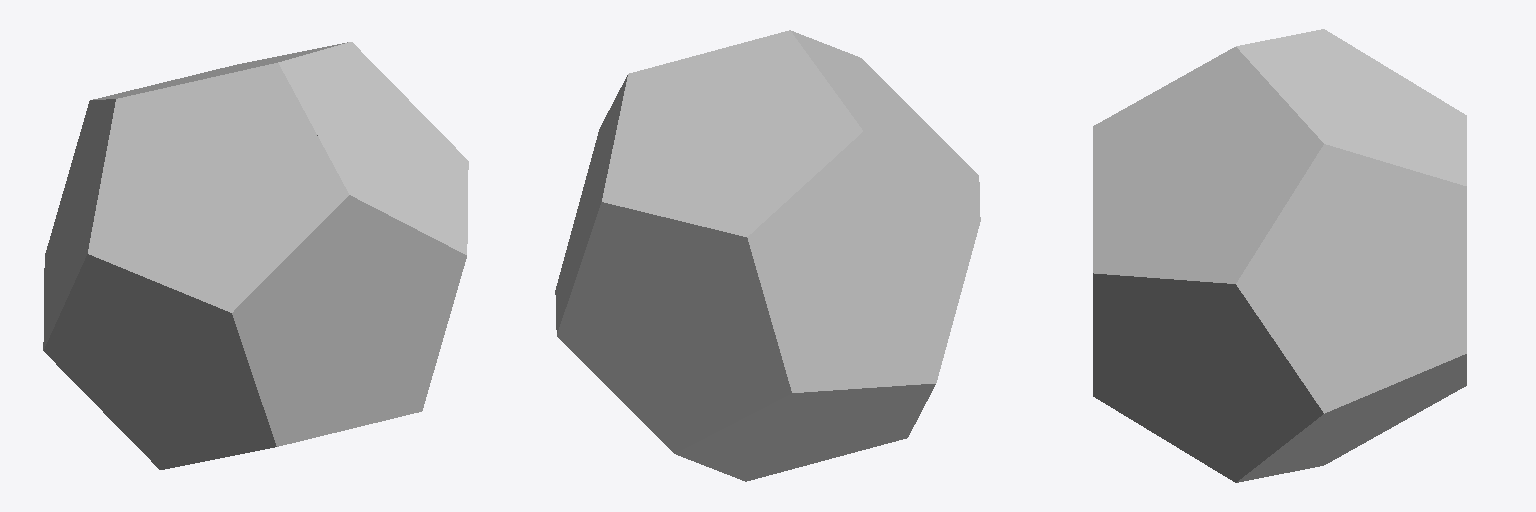
Rendered from Dodecahedron.obj.
3 views of the same model, side by side, from view 1: azimuth 30°, elevation 25°; view 2: azimuth 150°, elevation 25°; view 3: azimuth 270°, elevation 25° (orthographic).
Visible parts, largest first — view 1: Object.1; view 2: Object.1; view 3: Object.1.
Part boxes in pixels (x1,y1,x2,y2): Object.1: (43,42,468,469); Object.1: (555,30,980,481); Object.1: (1093,29,1466,482).
Size of the model in its own units: 52.36 by 55.06 by 44.54.